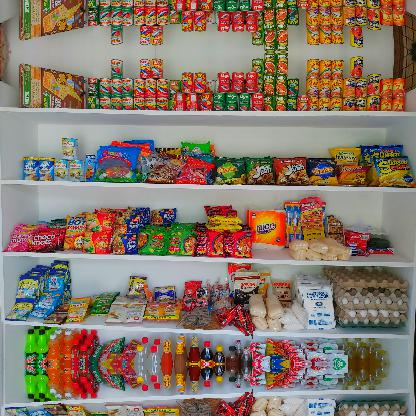Koko-Krunch: (18, 62, 86, 108), (18, 0, 86, 42)
